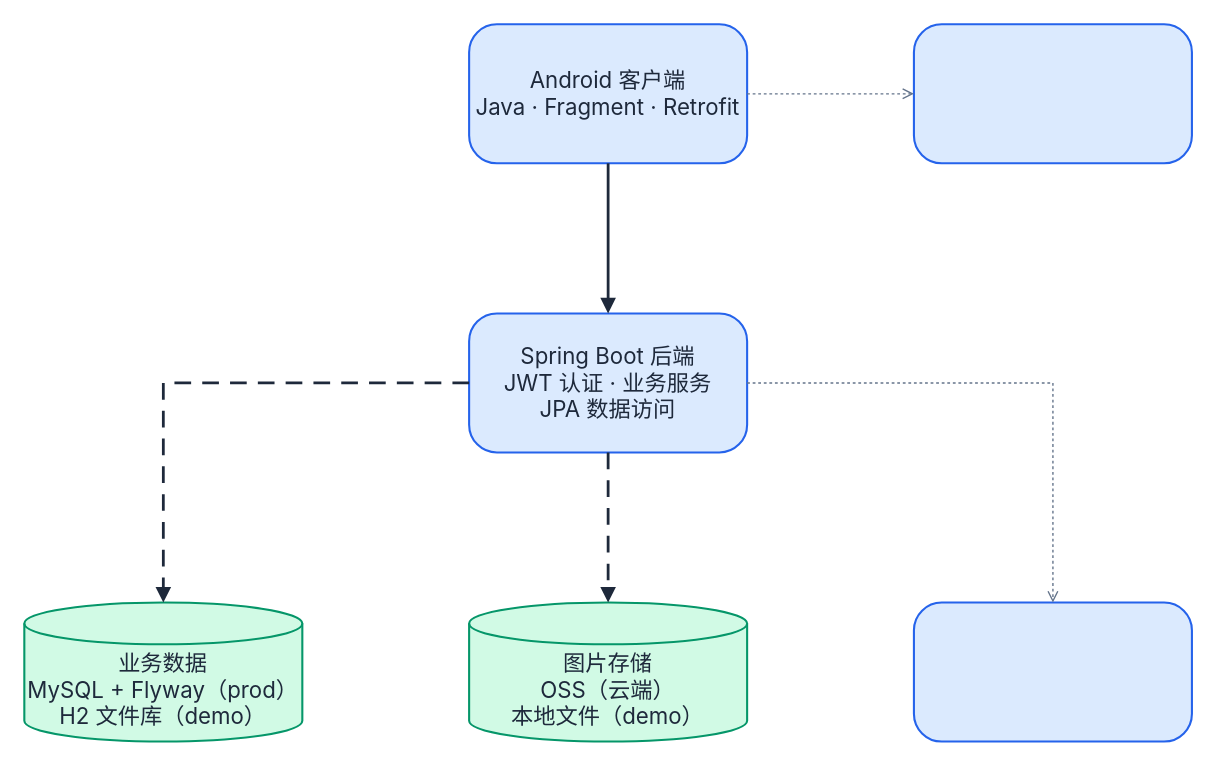
Image size: 1218x767. Some labels were removed from this diagram. The box of each missing label's shape, as (x1, y1, x2, y2) in pixels:
图片特征与天气 Replicate / Open-Meteo 和风天气（按配置启用）: (912, 601, 1192, 742)
高德 Android SDK 地图 · 定位 · 地址查询 需自有 Key: (912, 23, 1192, 164)
